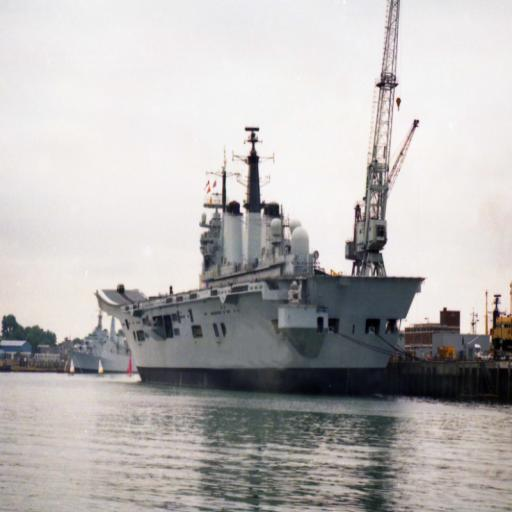Portanaves: (94, 123, 421, 388)
